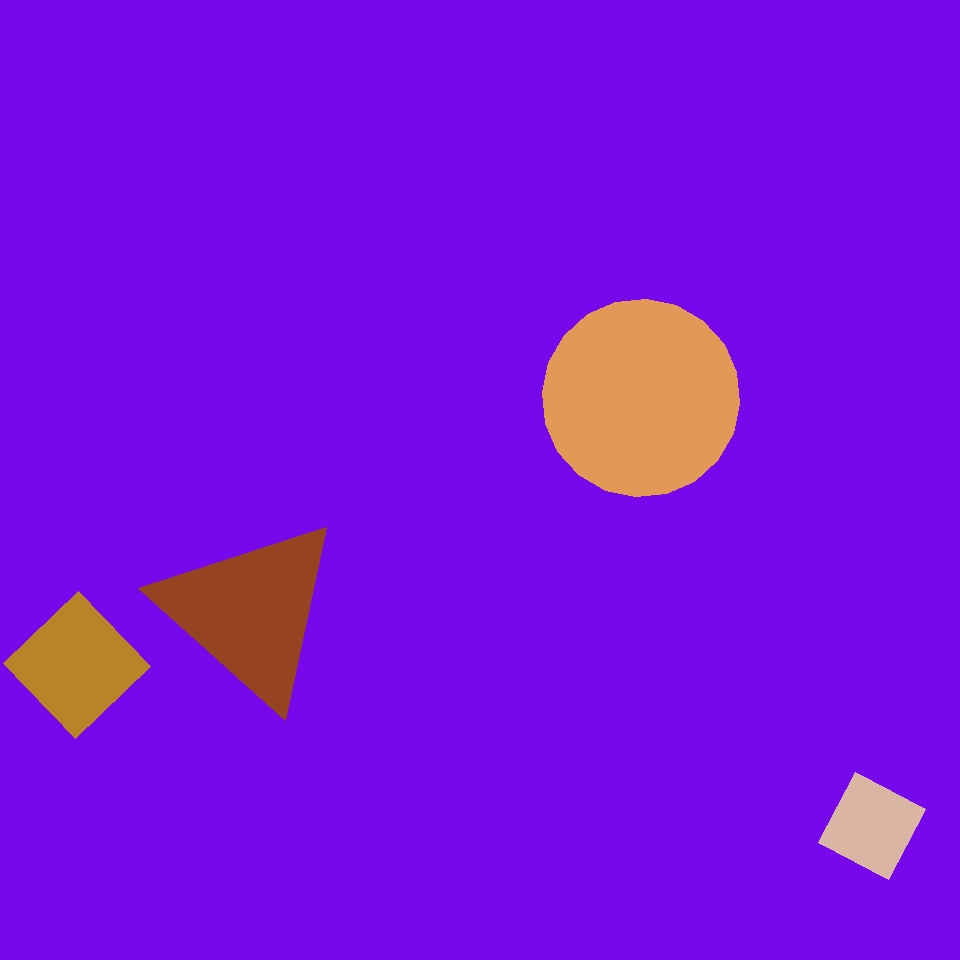circle: (496, 173, 729, 380), (156, 515, 344, 708)
square: (14, 78, 350, 414), (4, 592, 151, 738), (818, 772, 926, 880)
triangle: (251, 648, 521, 919), (635, 564, 886, 815), (543, 300, 740, 496), (337, 719, 439, 821)
